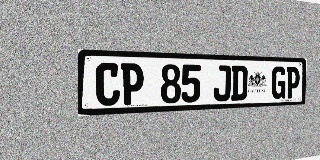5: (181, 64, 201, 103)
8: (161, 64, 181, 104)
C: (96, 63, 120, 106)
D: (231, 66, 248, 101)
G: (271, 66, 286, 99)
J: (213, 65, 231, 101)
P: (121, 63, 144, 105), (286, 67, 300, 99)
